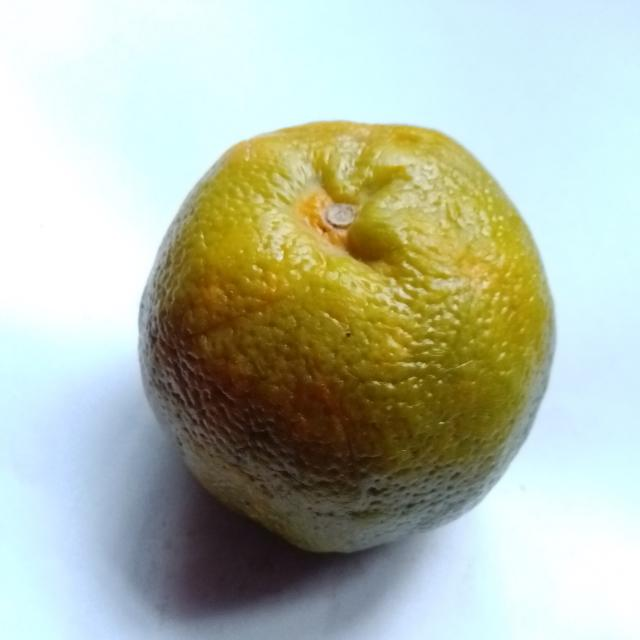orange: (140, 122, 553, 551)
